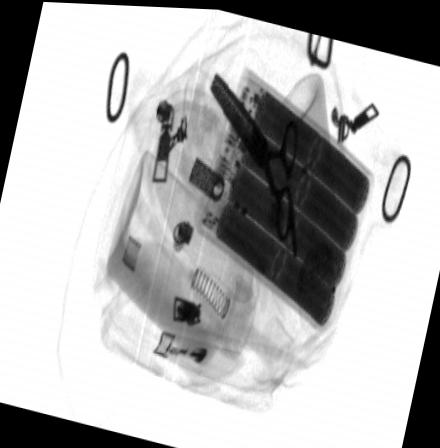Lighter: (153, 319, 218, 373)
Powerbank: (197, 66, 378, 331)
Scissors: (209, 67, 300, 259)
Sprayer: (273, 67, 358, 339)
